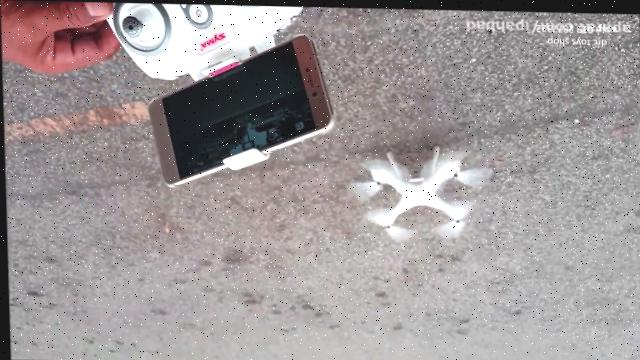drone: (343, 137, 495, 244)
